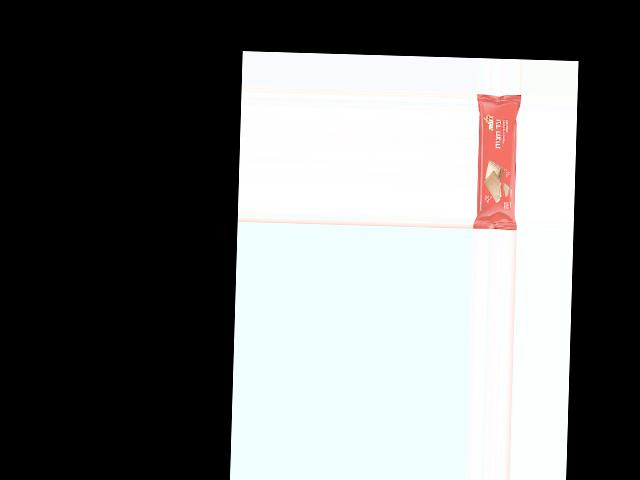chocolate: (473, 97, 522, 228)
